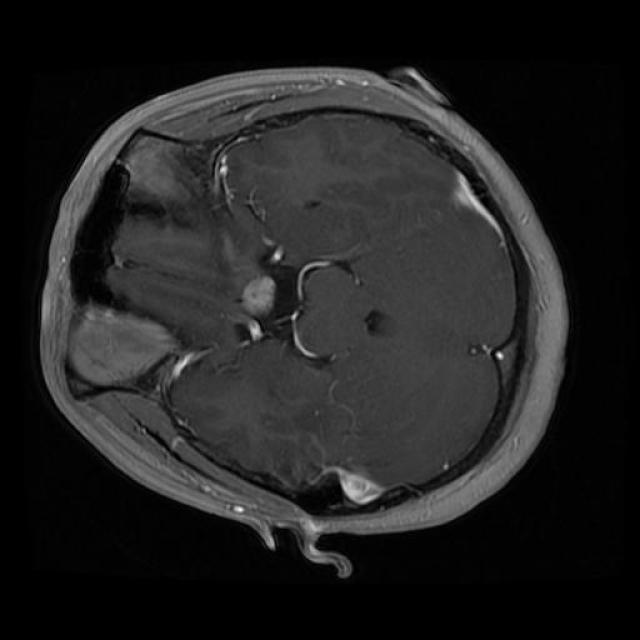Pituitary: (240, 275, 276, 319)
